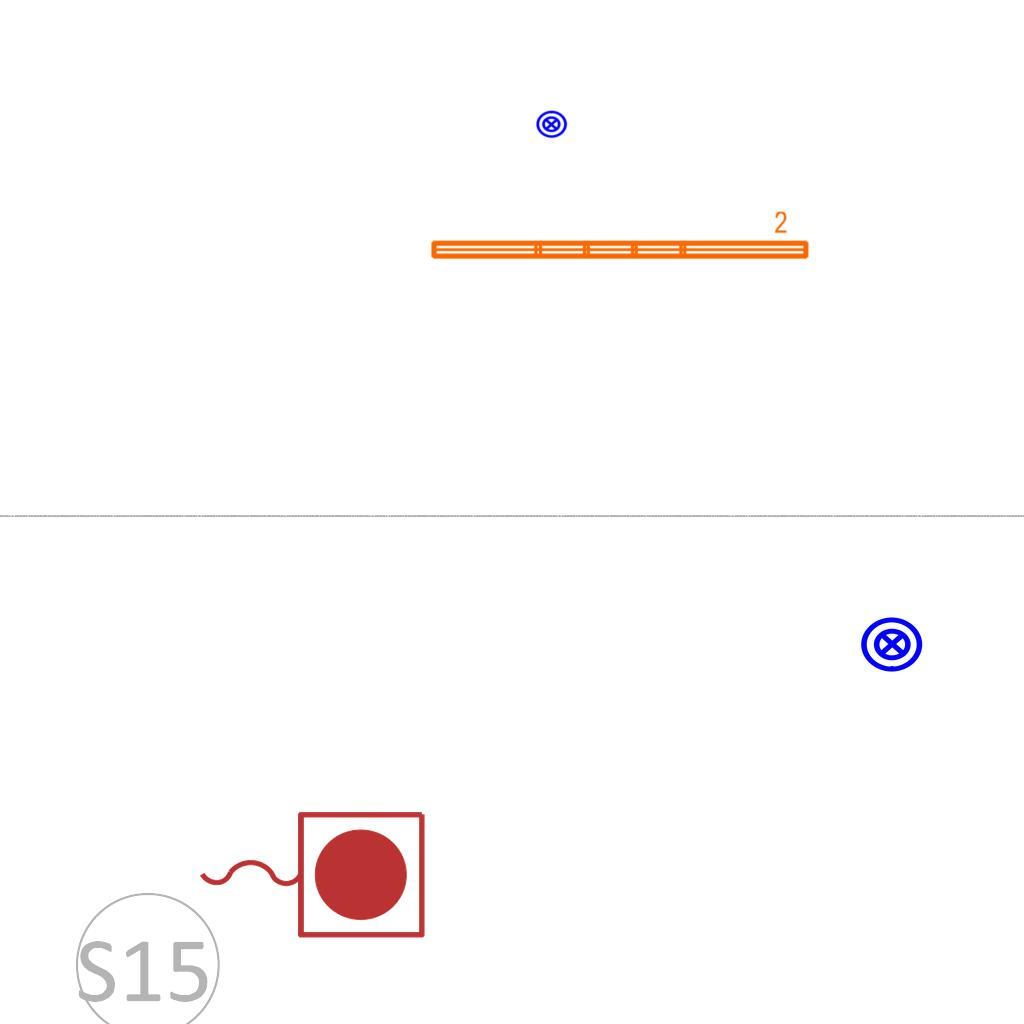Ambulanz_Pendelleuchte_LED: (426, 209, 813, 265)
Taster_beleuchtet: (859, 611, 925, 677), (535, 108, 568, 141)
Zugtaster: (189, 801, 433, 945)
